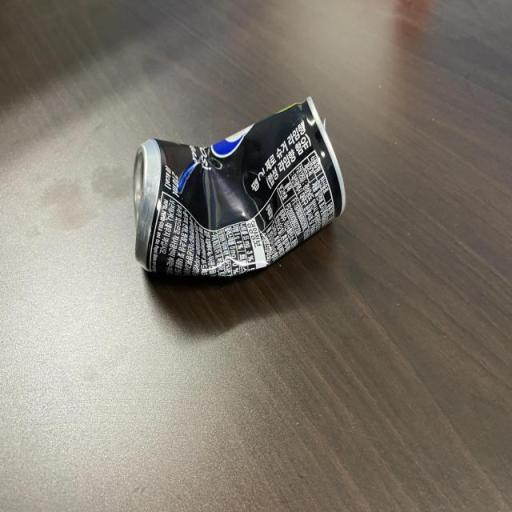metal: (96, 95, 386, 327)
